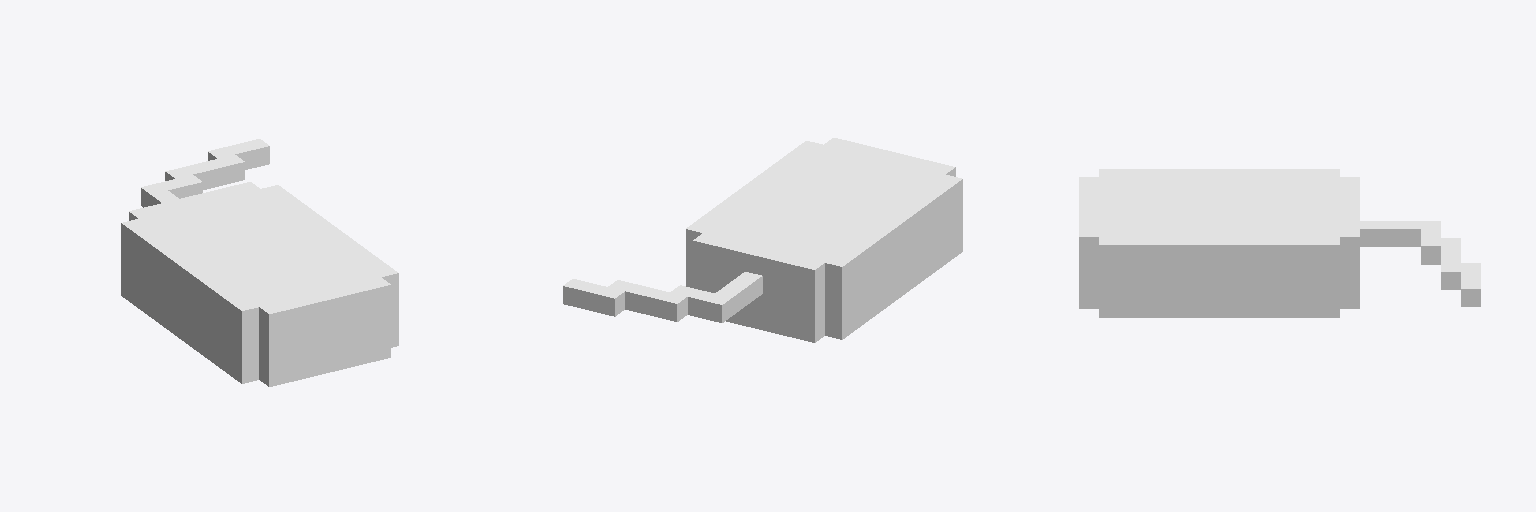
File: mouse.obj
3 views of the same model, side by side, from view 1: azimuth 30°, elevation 25°; view 2: azimuth 150°, elevation 25°; view 3: azimuth 270°, elevation 25° (orthographic).
Parts seen in each view (by area): view 1: object 1; view 2: object 1; view 3: object 1.
Boxes of the visible parts, x1=… form: object 1: x1=121, y1=139, x2=398, y2=386; object 1: x1=563, y1=138, x2=962, y2=342; object 1: x1=1079, y1=169, x2=1480, y2=317.
Size of the model in its own units: 1.2 by 0.4 by 2.